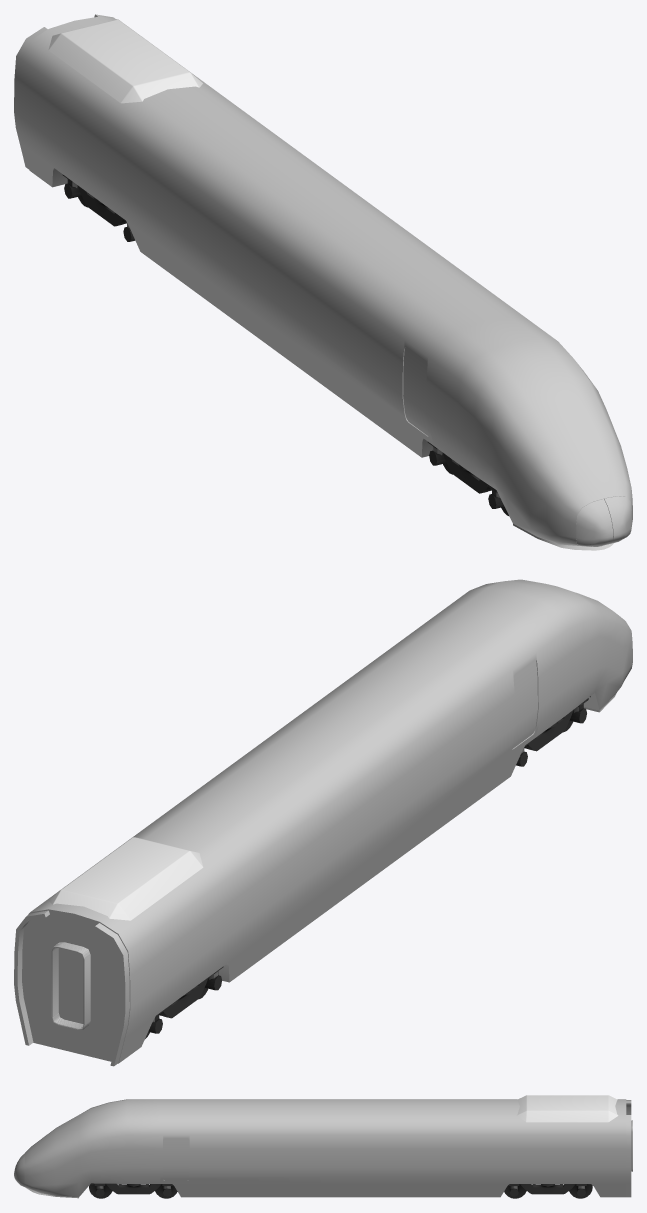
Rendered from crh1aa1.fbx.
3 renders of one model, top to bottom at view 1: azimuth 30°, elevation 25°; view 2: azimuth 150°, elevation 25°; view 3: azimuth 270°, elevation 25°, orthographic. The views are drawn at different scales.
Parts seen in each view (by area): view 1: body, tou, under, kt, zlz, bogie; view 2: body, tou, under, kt, lj, bogie; view 3: body, tou, under, kt, bogie, lj, zlz.
Part boxes in pixels (box(x1,y1,x2,y2)): body: box(18, 16, 528, 445); tou: box(428, 317, 632, 550); under: box(23, 145, 432, 457); kt: box(48, 19, 202, 103); zlz: box(576, 496, 631, 546); bogie: box(62, 174, 508, 515); body: box(22, 609, 540, 1037); tou: box(441, 579, 632, 737); under: box(27, 746, 524, 1063); kt: box(48, 837, 203, 920); lj: box(14, 910, 129, 1066); bogie: box(145, 696, 590, 1038); body: box(160, 1099, 626, 1183); tou: box(24, 1099, 160, 1198); under: box(172, 1184, 626, 1197); kt: box(516, 1095, 618, 1122); bogie: box(89, 1183, 592, 1198); lj: box(626, 1100, 632, 1197); zlz: box(14, 1154, 24, 1186).
Size of the model in its own units: 323 by 426 by 2712.
